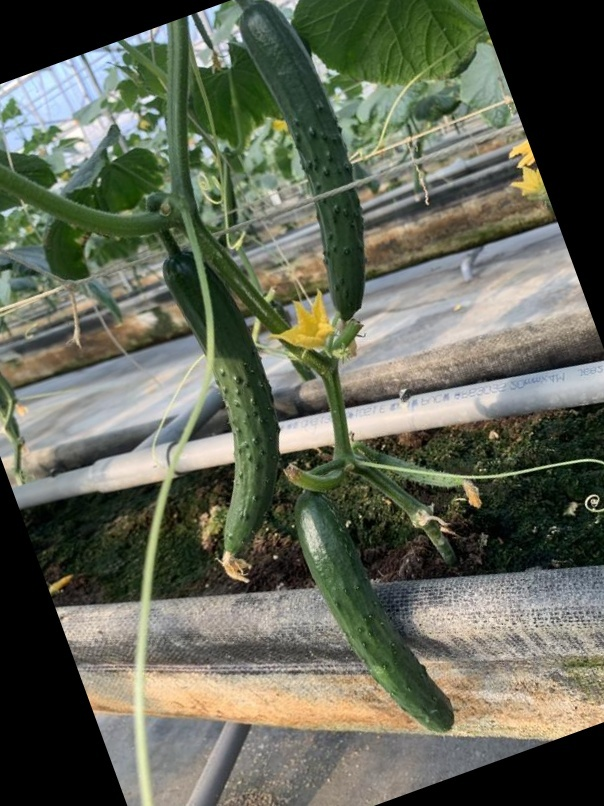mature: (235, 3, 373, 324), (154, 246, 287, 561), (299, 491, 456, 735)
